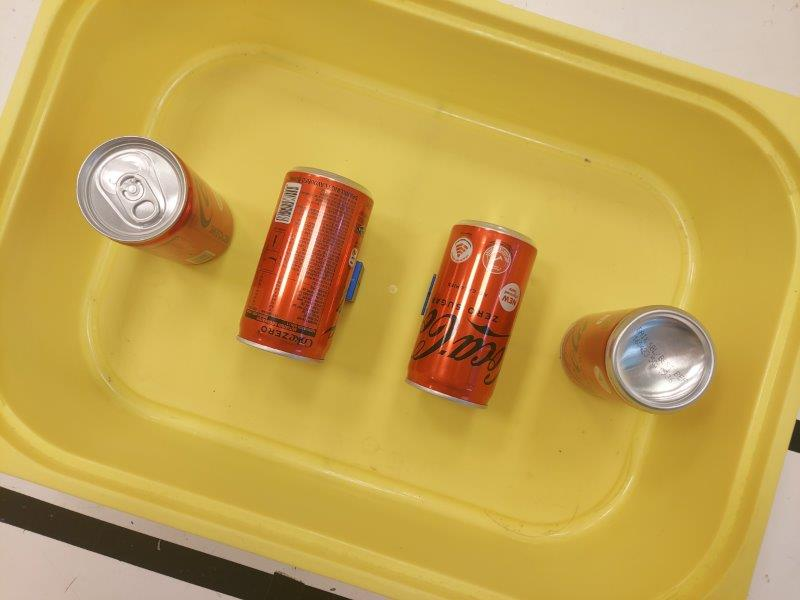Coke: (237, 166, 374, 362), (406, 220, 538, 409), (74, 137, 235, 267), (560, 305, 715, 413)
